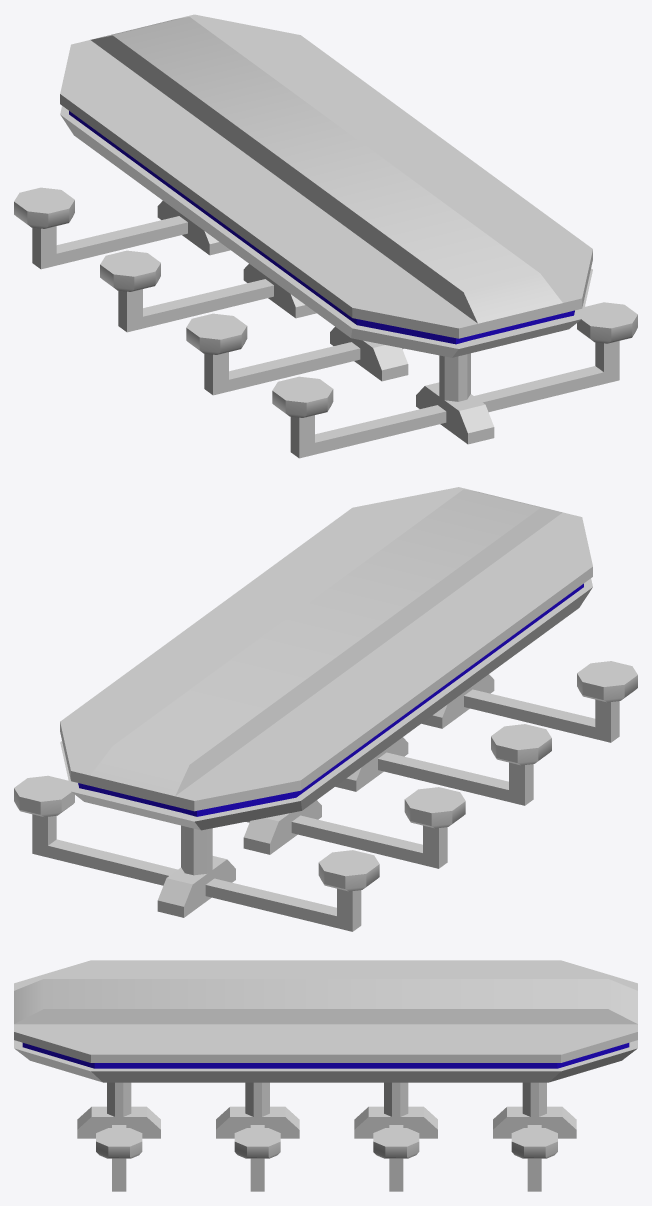
File: SciFiTable_low.fbx
3 renders of one model, top to bottom at view 1: azimuth 30°, elevation 25°; view 2: azimuth 150°, elevation 25°; view 3: azimuth 270°, elevation 25°, orthographic. The views are drawn at different scales.
Visible parts, largest first — view 1: TableTop_low, Stools_low; view 2: TableTop_low, Stools_low; view 3: TableTop_low, Stools_low.
Boxes of the visible parts, <box> form: TableTop_low: <box>60,14,592,357</box>; Stools_low: <box>14,187,637,458</box>; TableTop_low: <box>60,487,592,830</box>; Stools_low: <box>14,661,637,931</box>; TableTop_low: <box>14,960,637,1082</box>; Stools_low: <box>77,1082,576,1191</box>.
Bounding box in the file's own units: 27.64 × 13.02 × 52.71.
